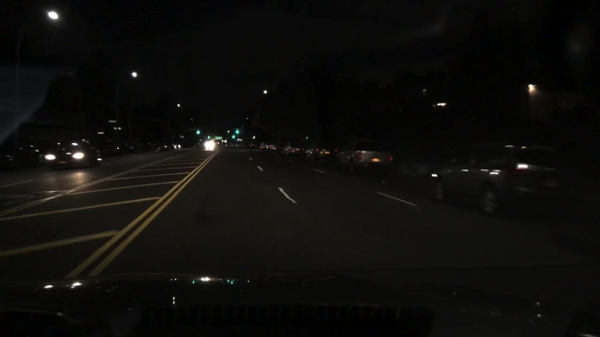car: (428, 139, 562, 222), (335, 139, 394, 177), (44, 139, 97, 169), (0, 144, 40, 171), (303, 142, 334, 165), (99, 140, 135, 157), (279, 141, 303, 160), (266, 142, 279, 153), (154, 144, 168, 153), (203, 140, 215, 150), (246, 141, 257, 149), (217, 140, 228, 147), (186, 141, 198, 147), (259, 142, 266, 150), (170, 143, 181, 148)
traffic light: (196, 130, 200, 135), (231, 134, 235, 139), (235, 129, 239, 134), (207, 135, 210, 140)
traffic sign: (108, 120, 116, 123), (114, 127, 122, 130), (214, 137, 222, 140), (97, 132, 103, 134)
